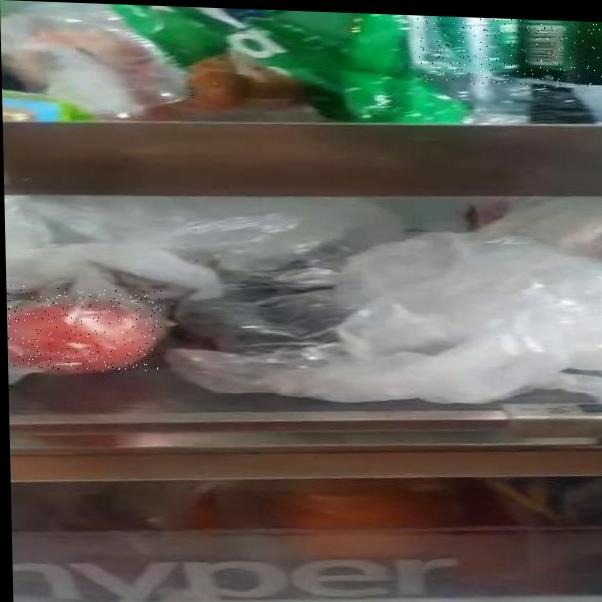mineral water: (417, 15, 602, 89)
tomatoes: (6, 284, 163, 374)
